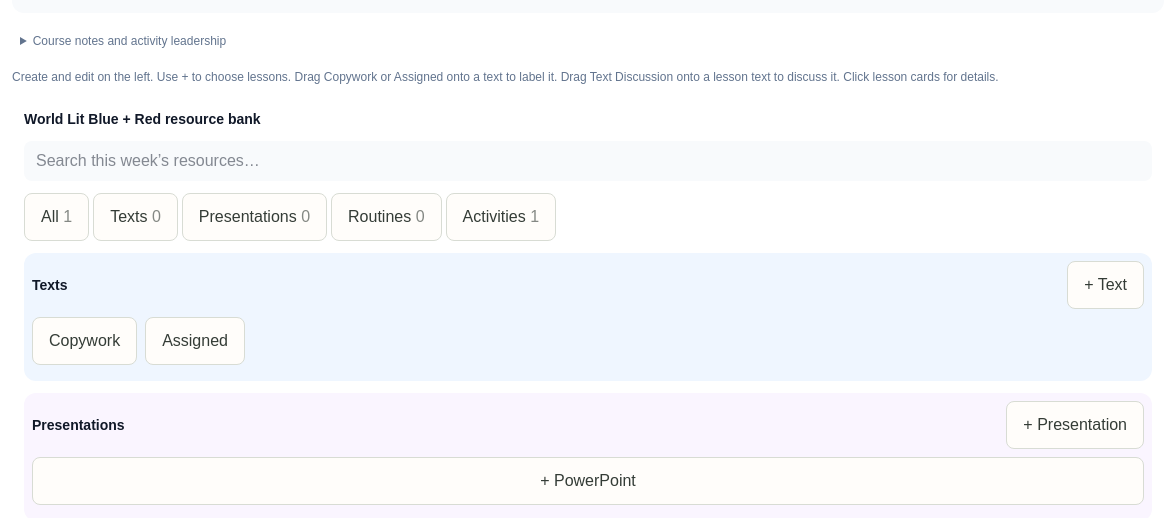
Test: central weekly resource bank › shows both World Lit sections and filters only the resource bank
In the field named "Search weekly resources": x=588, y=161 [24,141,1152,181], type "no match"
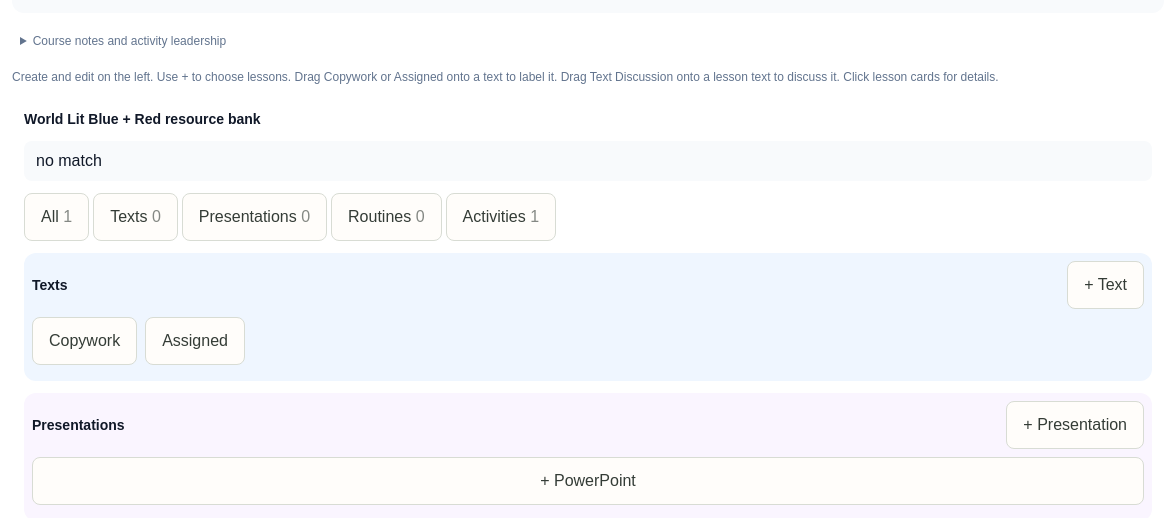
Replace the text in the field named "Search weekly resources" with "imagery": x=588, y=161 [24,141,1152,181]
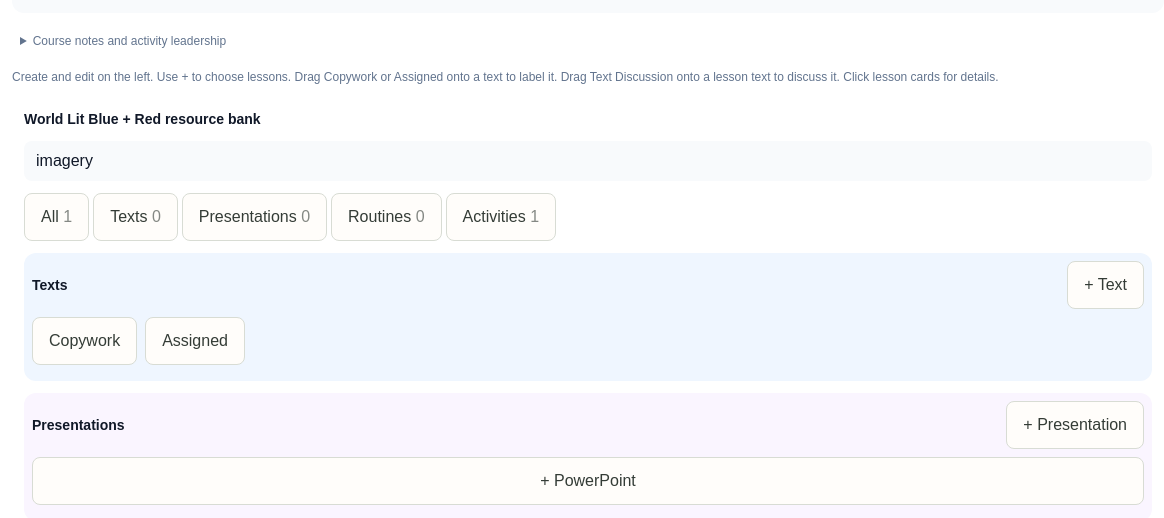
Click the button "Texts 0": x=135, y=217 [93,193,178,241]
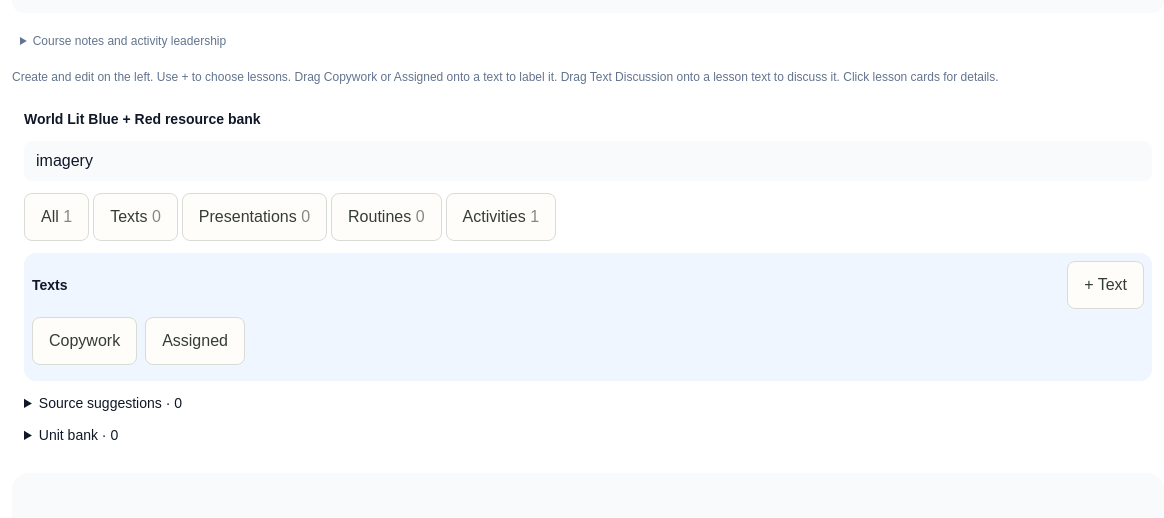
Click the button "All 1": x=57, y=217 [24,193,89,241]
(page scrolled)
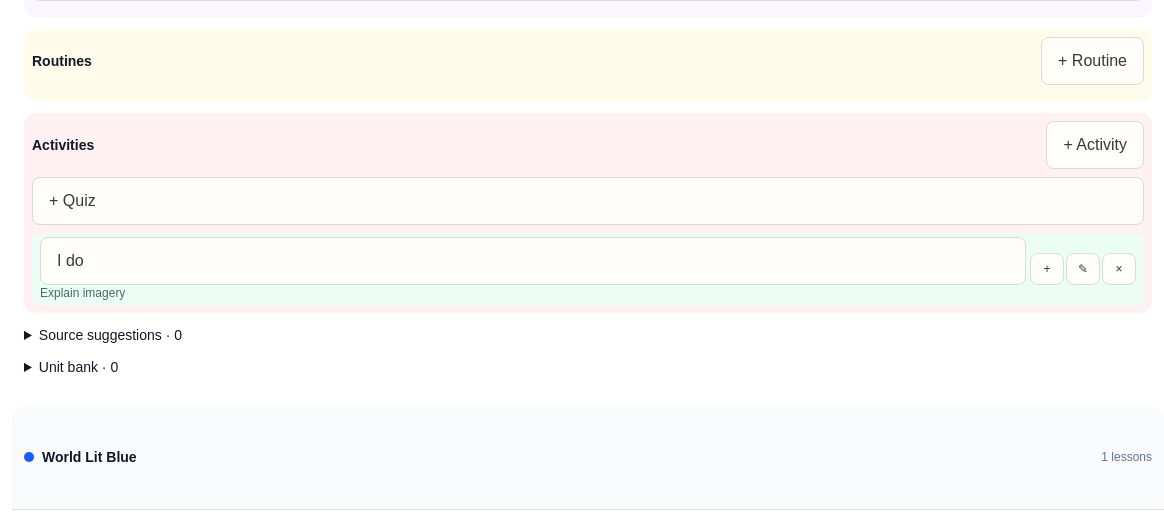
Result: the button named "Edit resource I do" is shown at [1066,253,1100,285]
